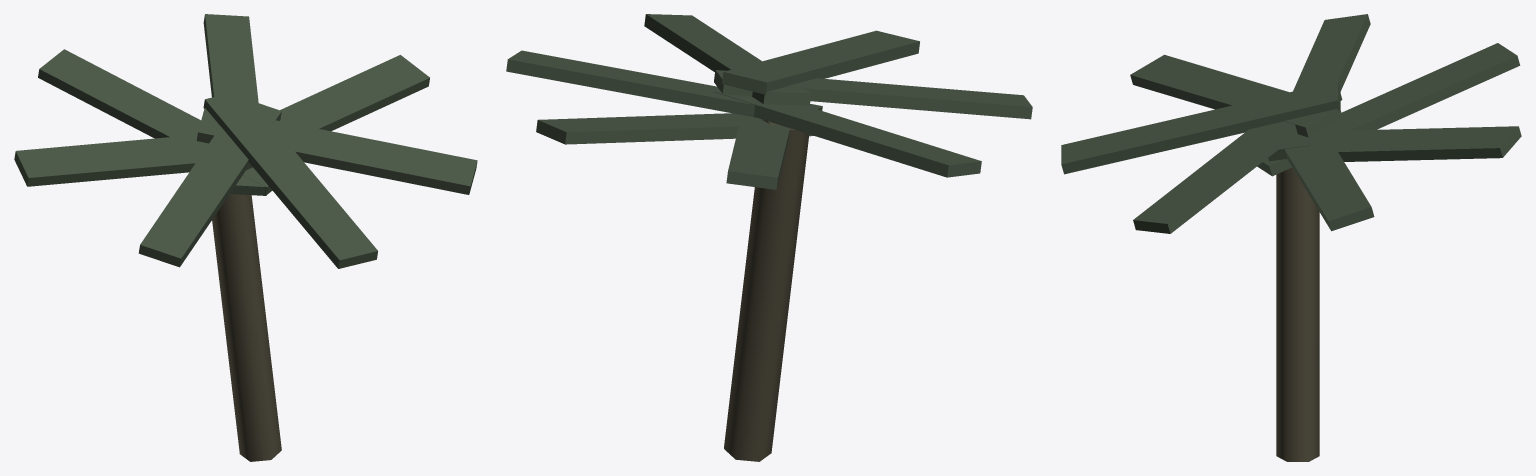
The model's file is tree.glb.
The picture shows the model from 3 angles, left to right: view 1: azimuth 30°, elevation 25°; view 2: azimuth 150°, elevation 25°; view 3: azimuth 270°, elevation 25°; orthographic projection. The views are drawn at different scales.
Visible parts, largest first — view 1: tree; view 2: tree; view 3: tree.
Boxes of the visible parts, bbox=[...] form: tree: bbox=[14, 14, 477, 461]; tree: bbox=[506, 14, 1032, 461]; tree: bbox=[1061, 14, 1521, 461].
Size of the model in its own units: 8.37 by 6.93 by 8.06.
